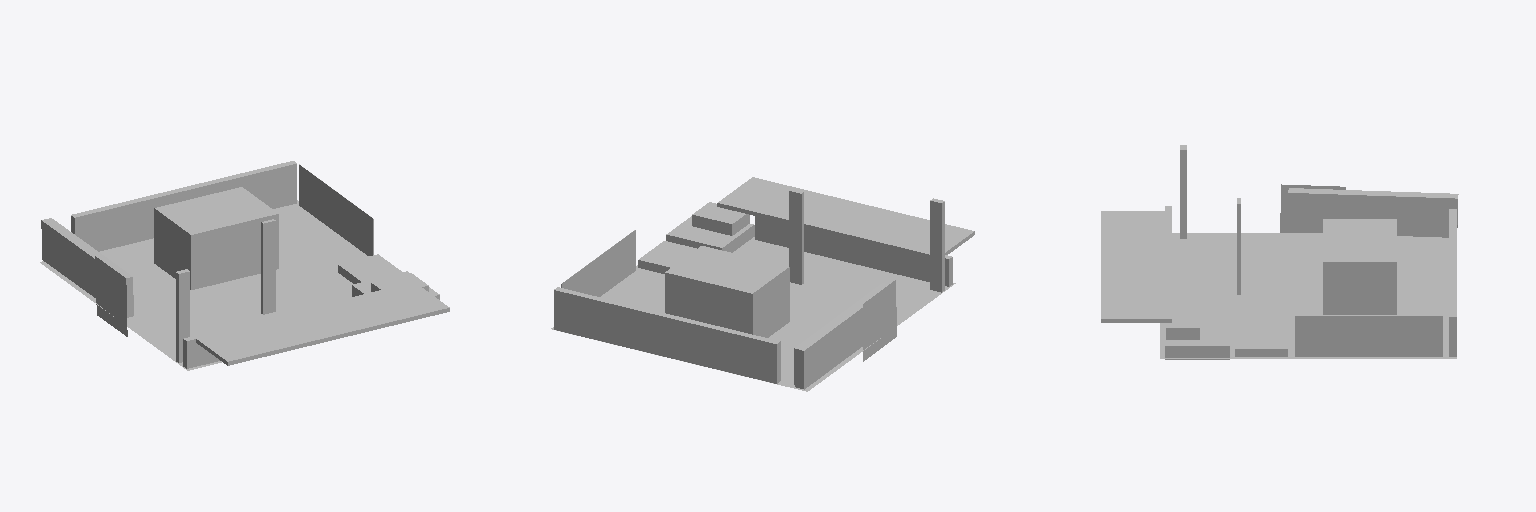
The model's file is house_main.obj.
3 renders of one model, left to right at view 1: azimuth 30°, elevation 25°; view 2: azimuth 150°, elevation 25°; view 3: azimuth 270°, elevation 25°, orthographic.
Visible parts, largest first — view 1: Plane.001, Plane, Cube.001; view 2: Plane.001, Cube.001, Plane; view 3: Plane.001, Plane, Cube.001.
Part boxes in pixels (x1,y1,x2,y2): Plane.001: (41, 161, 373, 368); Plane: (40, 200, 368, 370); Cube.001: (193, 254, 449, 365); Plane.001: (554, 189, 952, 389); Cube.001: (638, 177, 974, 273); Plane: (551, 237, 955, 391); Plane.001: (1165, 145, 1458, 356); Plane: (1160, 233, 1456, 358); Cube.001: (1101, 211, 1287, 359).
Bounding box in the file's own units: 9.23 × 3.52 × 11.07.